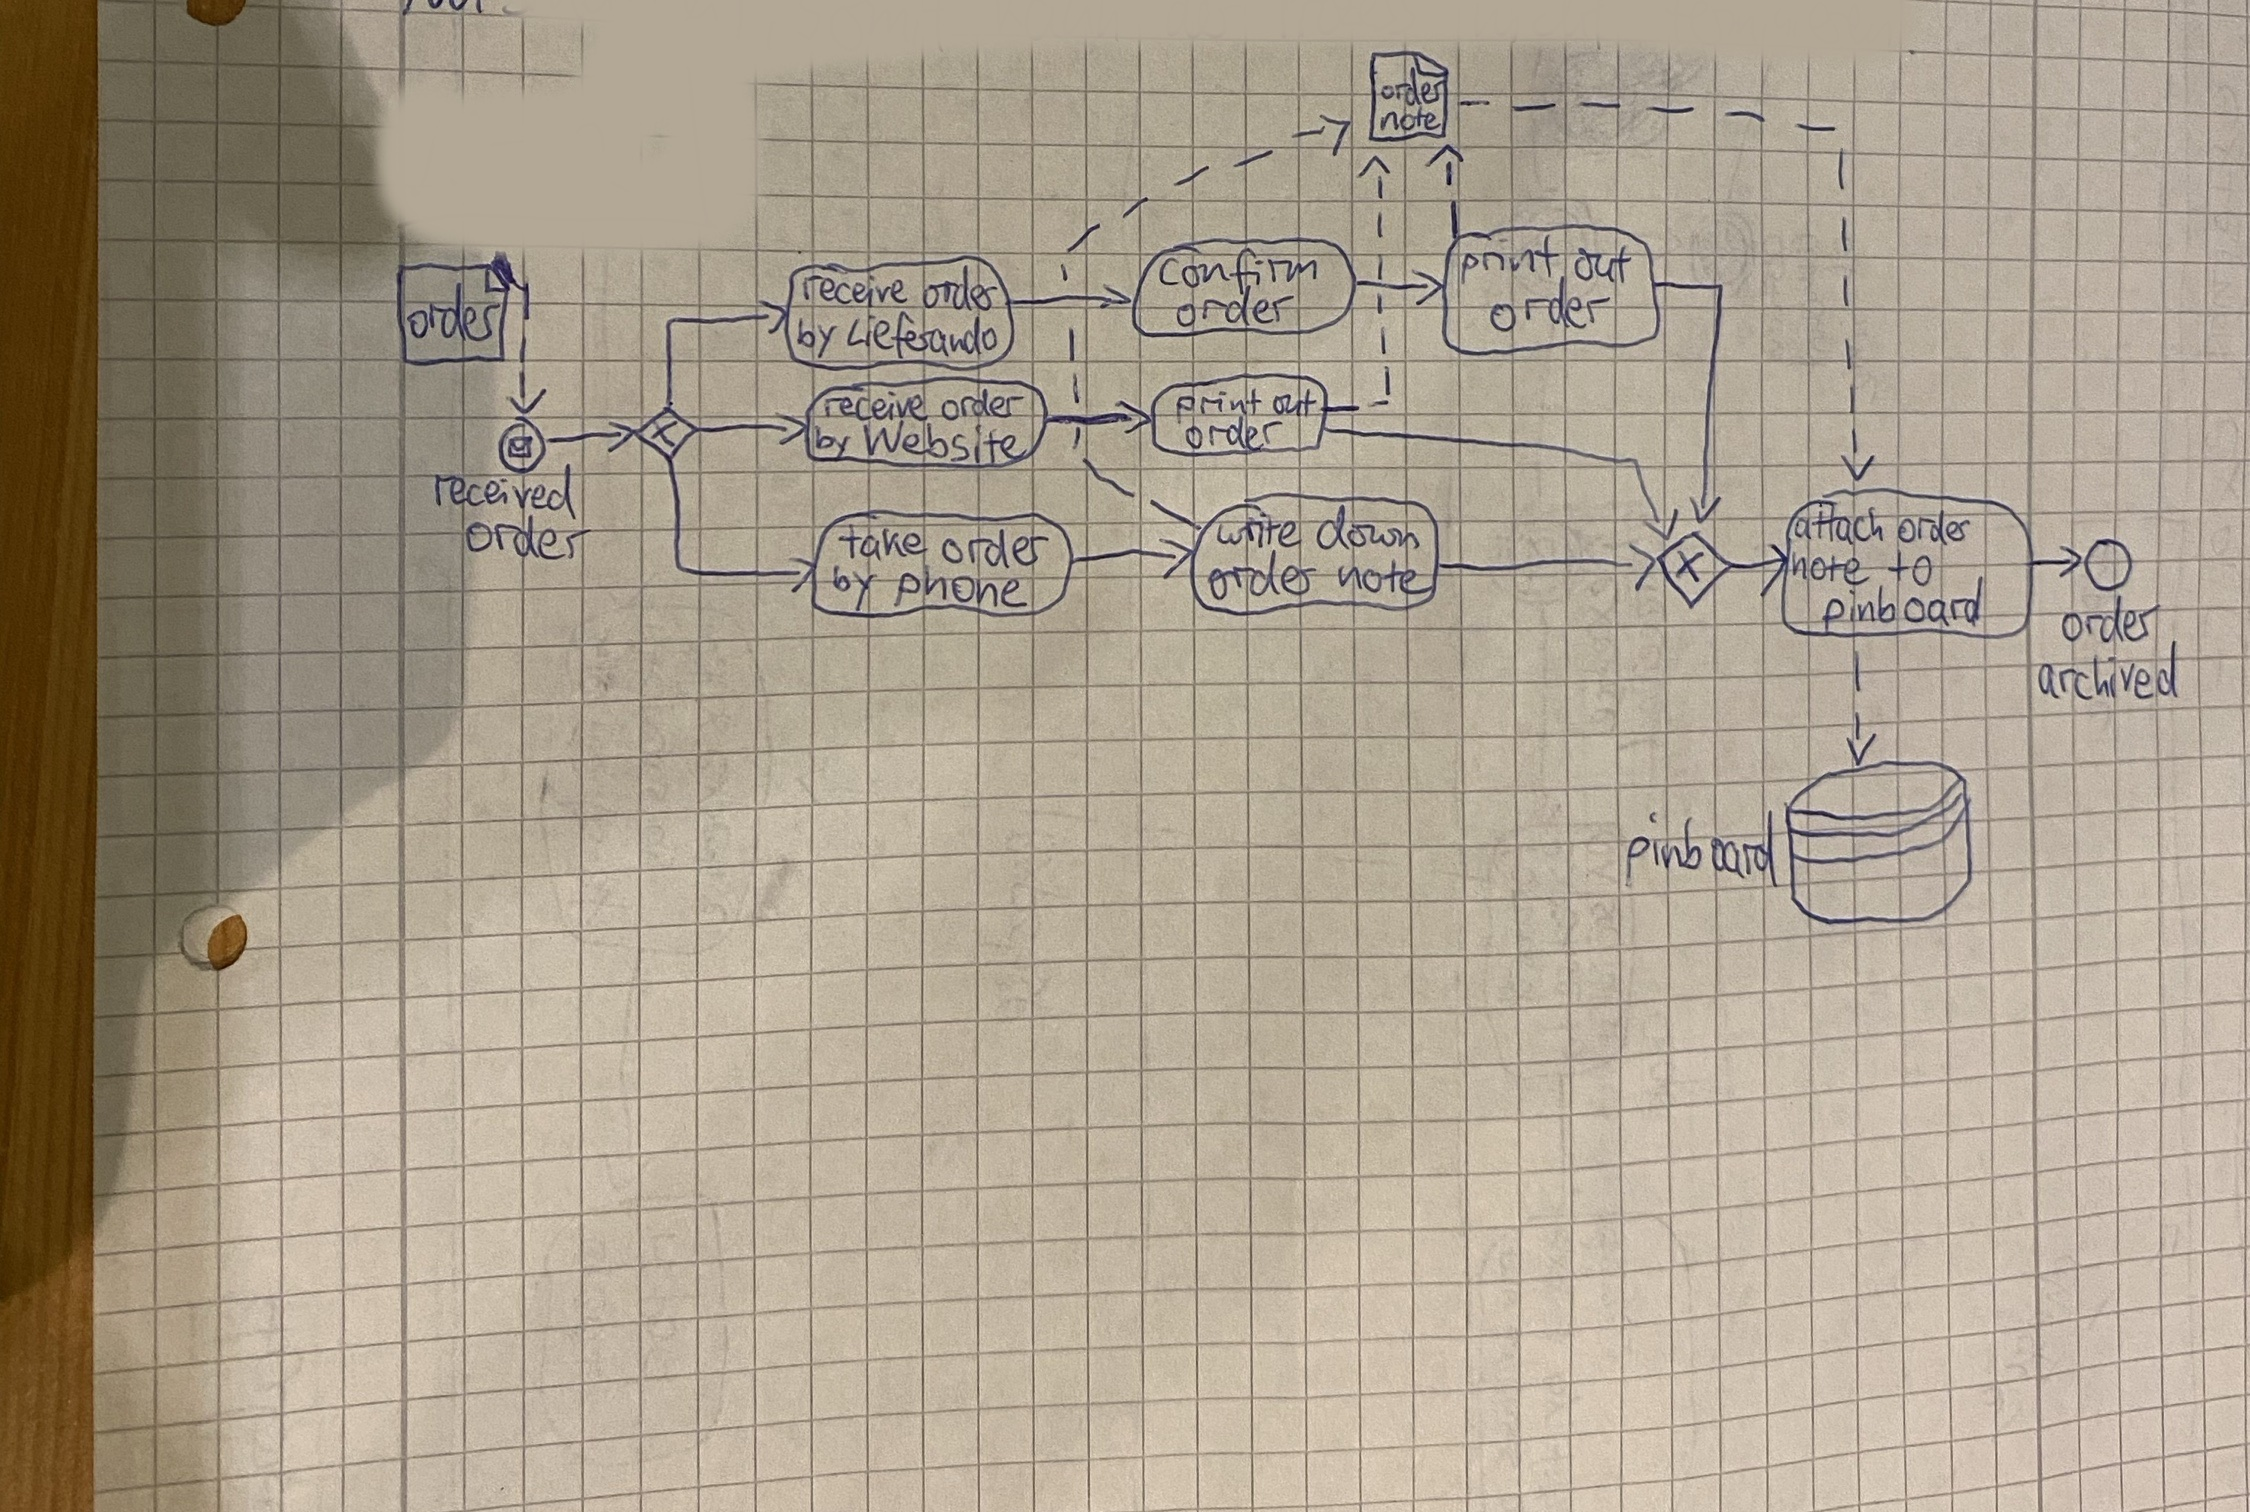Lieferando: (847, 310, 1000, 361)
Website: (860, 422, 1024, 462)
archived: (2034, 641, 2181, 704)
attach: (1790, 505, 1889, 547)
by: (788, 310, 838, 361), (826, 562, 879, 609), (811, 422, 855, 462)
confirm: (1159, 250, 1321, 289)
down: (1316, 505, 1418, 552)
note: (1331, 559, 1435, 602), (1790, 550, 1871, 587), (1378, 106, 1442, 133)
order: (1489, 282, 1619, 339), (457, 516, 594, 565), (401, 285, 508, 346), (1208, 548, 1319, 606), (1171, 289, 1295, 332), (2059, 597, 2164, 648), (936, 528, 1052, 570), (921, 265, 1002, 316), (1181, 417, 1285, 454), (1896, 506, 1972, 550), (936, 390, 1027, 424), (1378, 66, 1444, 105)
out: (1572, 241, 1639, 287), (1268, 386, 1321, 420)
phone: (897, 567, 1027, 613)
pinboard: (1619, 808, 1774, 884), (1817, 582, 1987, 633)
print: (1454, 235, 1564, 278), (1177, 388, 1263, 424)
receive: (799, 272, 909, 305), (821, 390, 928, 424)
received: (423, 466, 577, 516)
take: (838, 521, 934, 567)
to: (1886, 548, 1936, 589)
write: (1213, 511, 1300, 553)
